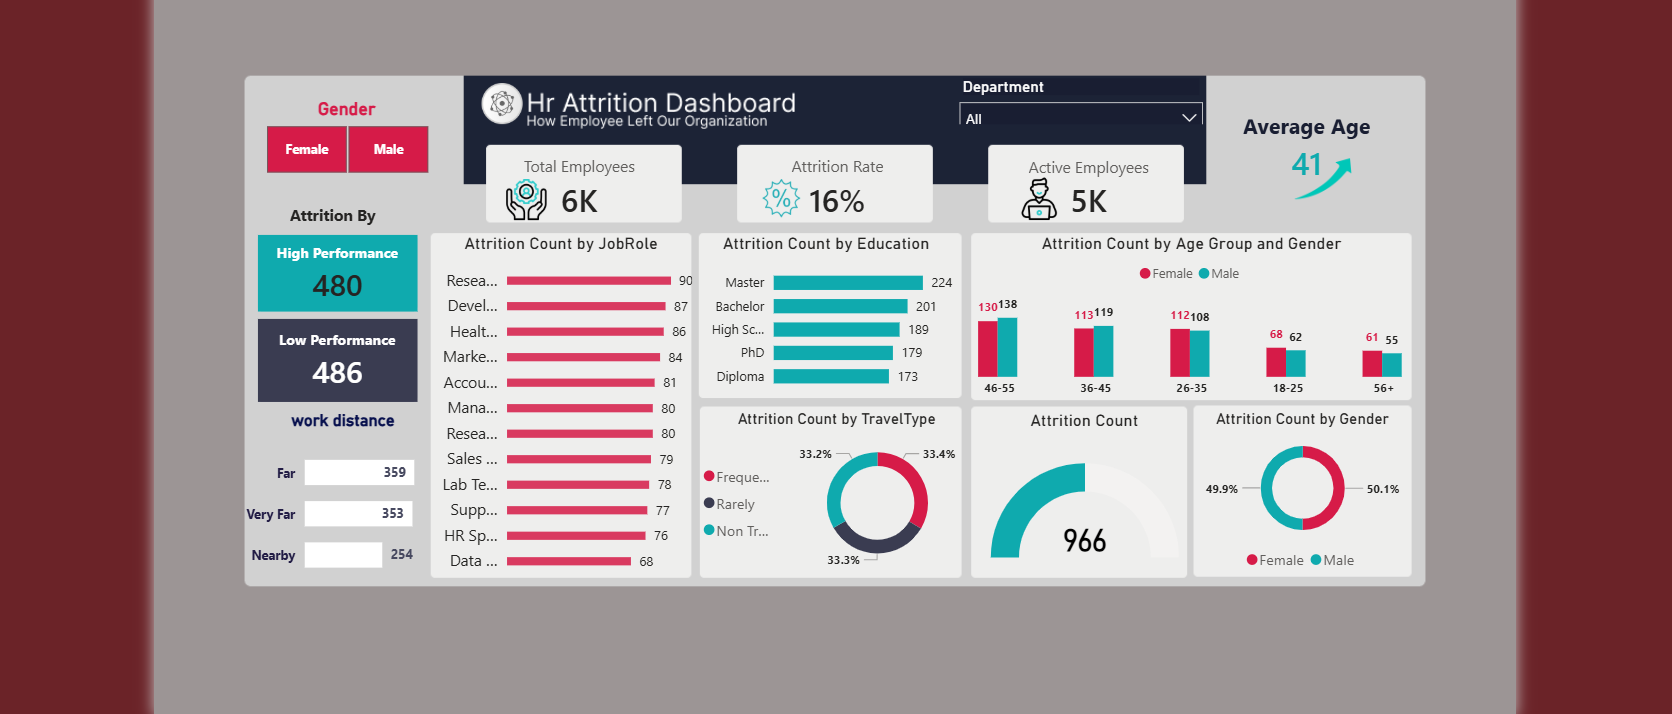

Layout of this report page (visuals, bound fields, positions):
{"tool":"powerbi","page":{"name":"Page 1","canvas":[1280,720],"ordinal":0},"visuals":[{"type":"cardVisual","fields":{"Data":["Dax.Total Employees"]},"box":[317.1,177.1,165.7,88.6],"z":0},{"type":"cardVisual","fields":{"Data":["Dax.Attrition Rate"]},"box":[565.7,177.1,154.3,88.6],"z":1000},{"type":"cardVisual","fields":{"Data":["Dax.Active Employees"]},"box":[790,178.6,178.6,87.1],"z":2000},{"type":"cardVisual","fields":{"Data":["Dax.High Performance Attrition"]},"box":[79.7,250.1,184.4,106.3],"z":3000},{"type":"cardVisual","fields":{"Data":["Dax.Low Performance Attrition"]},"box":[79.7,328.2,184.4,112.5],"z":4000},{"type":"clusteredBarChart","title":" work distance","fields":{"Category":["Fact_Employee.Distance Category"],"Y":["Dax.Attrition Count"]},"box":[80.4,431.4,194.6,170.6],"z":5000},{"type":"clusteredBarChart","fields":{"Category":["Dim_JobRole.JobRole"],"Y":["Dax.Attrition Count"]},"box":[242.5,265.1,263.7,327.1],"z":6000},{"type":"clusteredBarChart","fields":{"Y":["Dax.Attrition Count"],"Category":["Dim_Education.Education"]},"box":[505.7,265.7,251.4,155.7],"z":7000},{"type":"donutChart","fields":{"Category":["Dim_Travel.TravelType"],"Y":["Dax.Attrition Count"]},"box":[511.1,431.4,262.6,157.9],"z":8000},{"type":"slicer","fields":{"Values":["Dim_Department.Department"]},"box":[746.9,114.1,248.4,48.4],"z":9000},{"type":"slicer","title":"Gender","fields":{"Values":["Dim_Gender.Gender"]},"box":[80,138.6,201.4,77.1],"z":10000},{"type":"cardVisual","fields":{"Data":["Dax.Average Age of Attrition"]},"box":[992.2,140.6,182.8,87.5],"z":11000},{"type":"donutChart","fields":{"Y":["Dax.Attrition Count"],"Category":["Dim_Gender.Gender"]},"box":[984.4,431.2,190.6,159.4],"z":12000},{"type":"clusteredColumnChart","fields":{"Category":["Dim_Employee.Age Group"],"Y":["Dax.Attrition Count"],"Series":["Dim_Gender.Gender"]},"box":[732.9,265.7,484.3,162.9],"z":13000},{"type":"gauge","fields":{"Y":["Dax.Attrition Count"]},"box":[781.4,431.4,187.1,170],"z":14000},{"type":"textbox","box":[123.1,232.3,132.3,33.8],"z":15000},{"type":"image","box":[304.3,124.3,45.7,38.6],"z":16000},{"type":"image","box":[325.7,214.3,48.6,38.6],"z":17000},{"type":"image","box":[565.7,214.3,48.6,35.7],"z":18000},{"type":"image","box":[811.4,212.9,40,40],"z":19000},{"type":"image","box":[1070,185.7,57.1,55.7],"z":20000}]}

Visuals, with their boxes on the page's 1280x720 design canvas (x1, y1, x2, y2). These are canvas units, not pixel positions in the 1672x714 screenshot, which may show the page scaled, cropped or inside an application window:
cardVisual - Dax.Total Employees: (left=317, top=177, right=483, bottom=266)
cardVisual - Dax.Attrition Rate: (left=566, top=177, right=720, bottom=266)
cardVisual - Dax.Active Employees: (left=790, top=179, right=969, bottom=266)
cardVisual - Dax.High Performance Attrition: (left=80, top=250, right=264, bottom=356)
cardVisual - Dax.Low Performance Attrition: (left=80, top=328, right=264, bottom=441)
" work distance" clusteredBarChart: (left=80, top=431, right=275, bottom=602)
clusteredBarChart - Dim_JobRole.JobRole x Dax.Attrition Count: (left=242, top=265, right=506, bottom=592)
clusteredBarChart - Dax.Attrition Count x Dim_Education.Education: (left=506, top=266, right=757, bottom=421)
donutChart - Dim_Travel.TravelType x Dax.Attrition Count: (left=511, top=431, right=774, bottom=589)
slicer - Dim_Department.Department: (left=747, top=114, right=995, bottom=162)
"Gender" slicer: (left=80, top=139, right=281, bottom=216)
cardVisual - Dax.Average Age of Attrition: (left=992, top=141, right=1175, bottom=228)
donutChart - Dax.Attrition Count x Dim_Gender.Gender: (left=984, top=431, right=1175, bottom=591)
clusteredColumnChart - Dim_Employee.Age Group x Dax.Attrition Count: (left=733, top=266, right=1217, bottom=429)
gauge - Dax.Attrition Count: (left=781, top=431, right=968, bottom=601)
textbox: (left=123, top=232, right=255, bottom=266)
image: (left=304, top=124, right=350, bottom=163)
image: (left=326, top=214, right=374, bottom=253)
image: (left=566, top=214, right=614, bottom=250)
image: (left=811, top=213, right=851, bottom=253)
image: (left=1070, top=186, right=1127, bottom=241)
